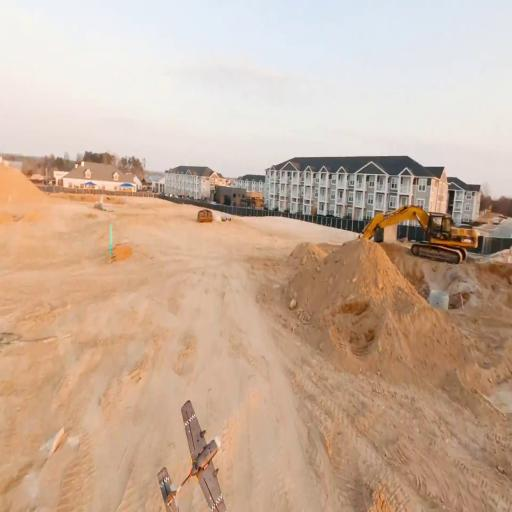uav: (155, 394, 225, 512)
